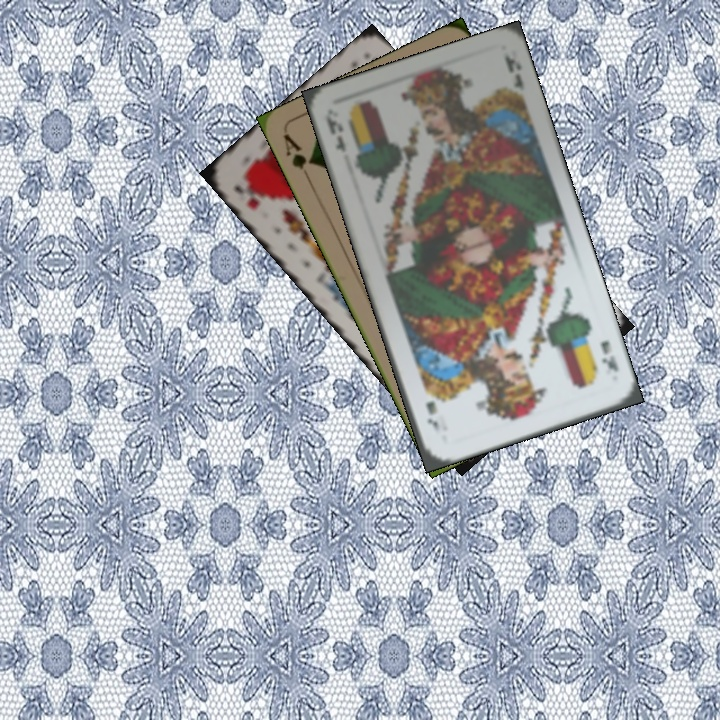EK: (321, 109, 349, 155), (597, 336, 621, 374)
GA: (279, 130, 317, 186)
HK: (230, 171, 265, 212)
